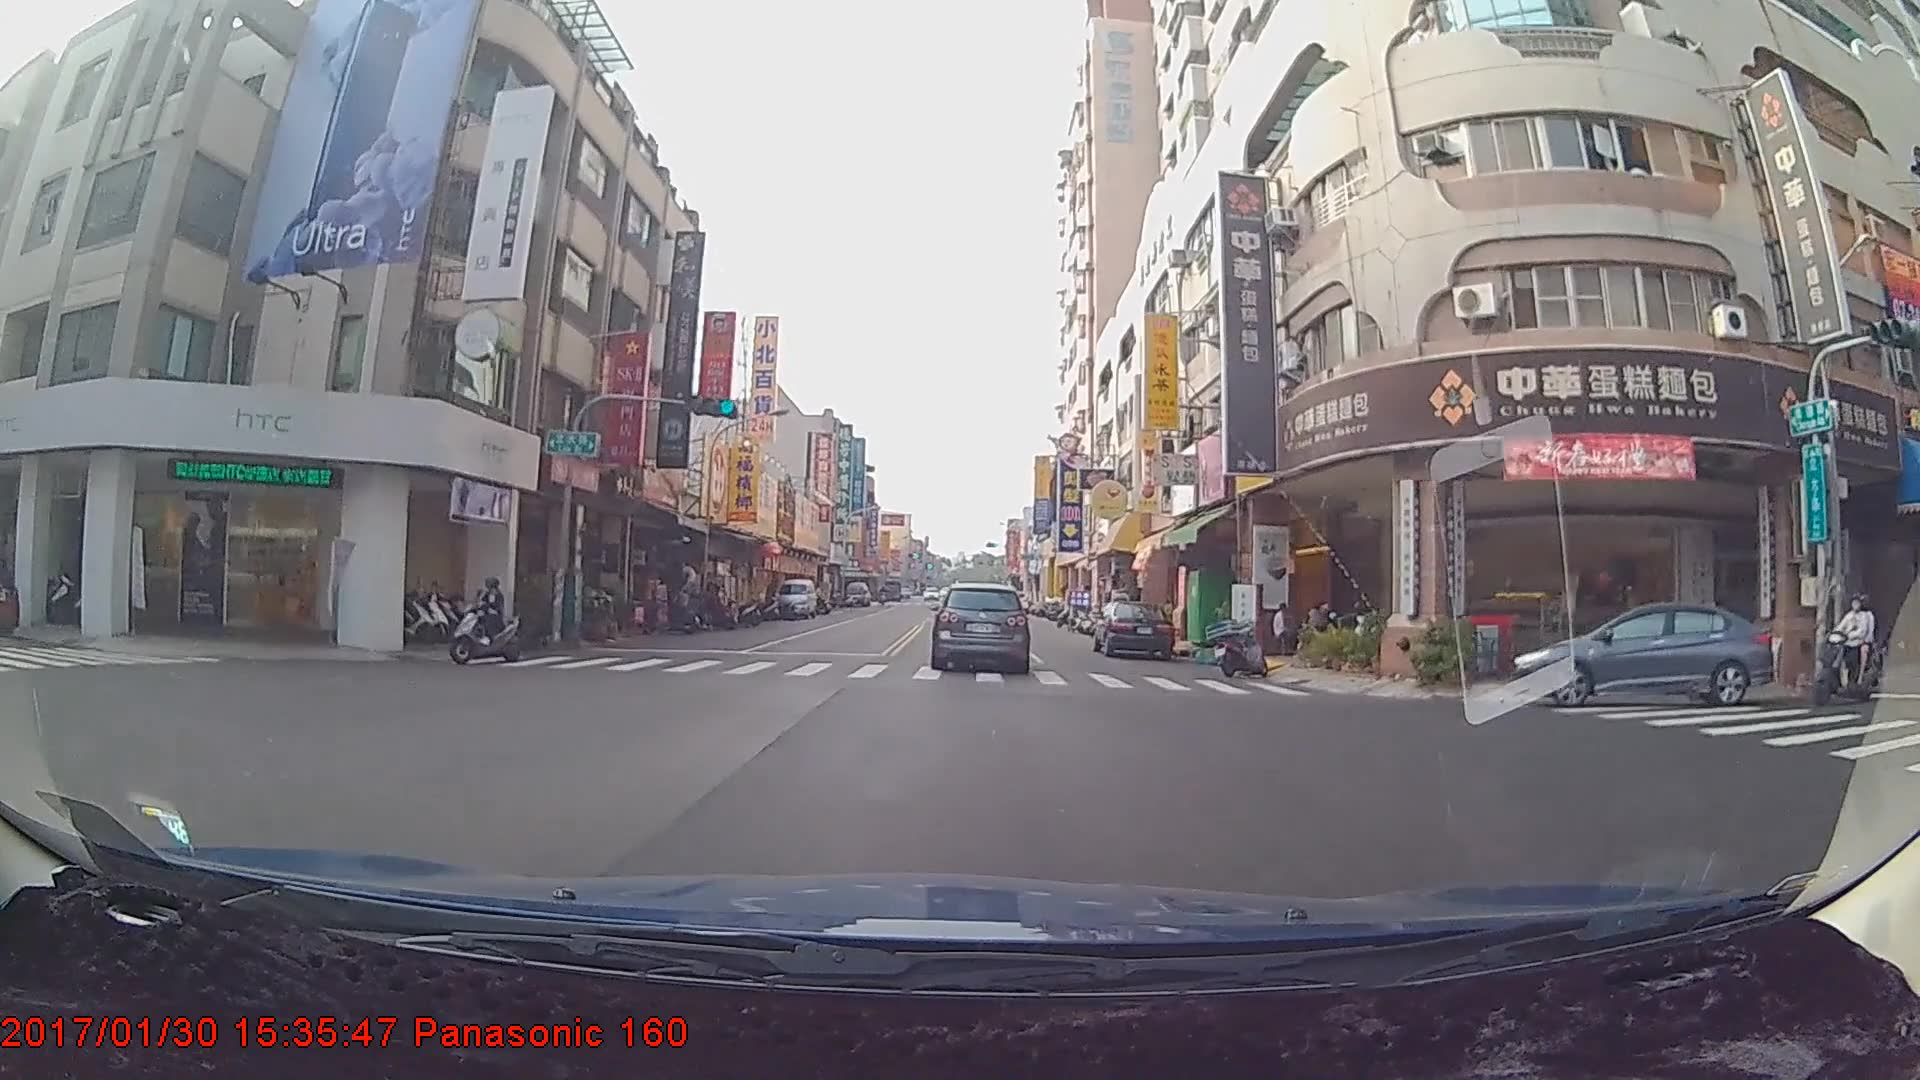pedestrian: (1268, 597, 1296, 654)
rider: (441, 567, 526, 669), (1811, 592, 1881, 713)
vehicle: (1505, 601, 1771, 708), (932, 582, 1029, 671), (1094, 599, 1173, 659), (772, 581, 816, 622), (842, 585, 870, 614)
